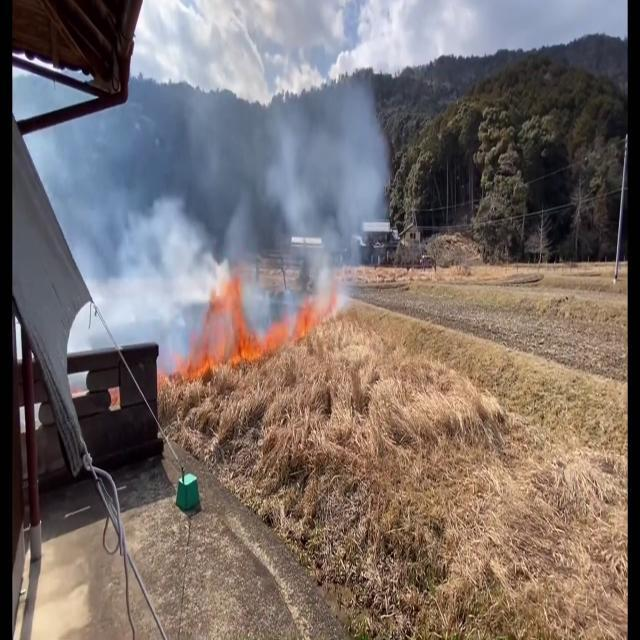Fire: (196, 267, 272, 378), (292, 274, 356, 352)
Smoke: (222, 61, 404, 368), (68, 93, 225, 374)
